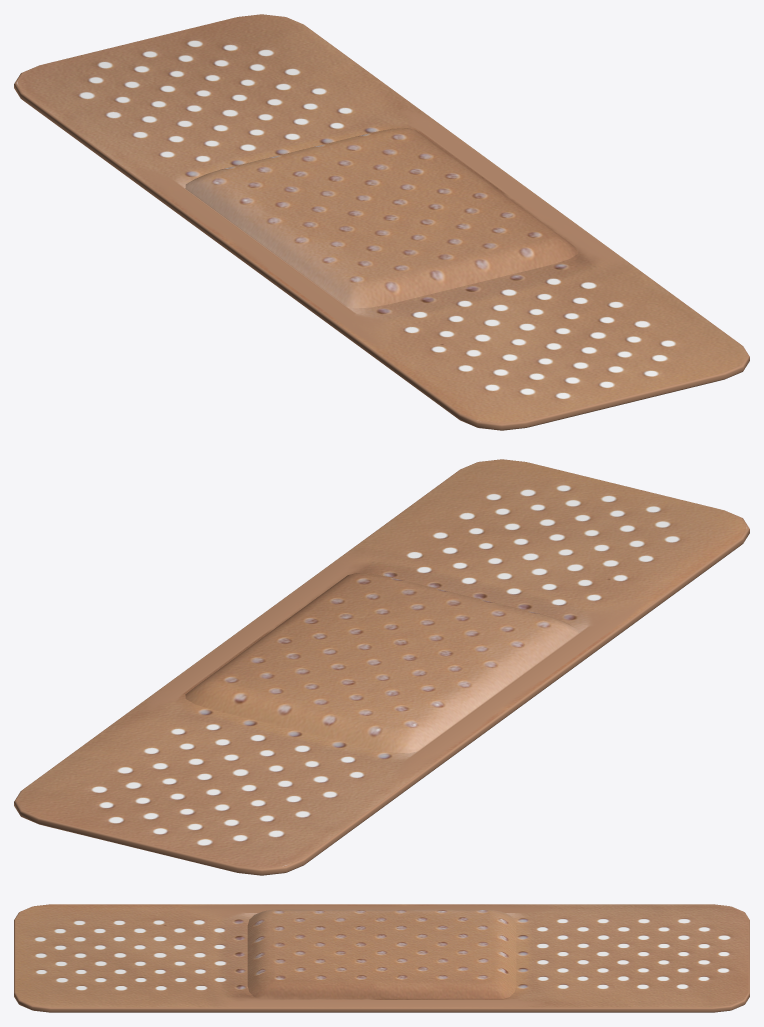
The model's file is Bandaid.fbx.
The picture shows the model from 3 angles, top to bottom: view 1: azimuth 30°, elevation 25°; view 2: azimuth 150°, elevation 25°; view 3: azimuth 270°, elevation 25°; orthographic projection. The views are drawn at different scales.
Parts seen in each view (by area): view 1: bandaid; view 2: bandaid; view 3: bandaid.
Part boxes in pixels (bbox=[...]): bandaid: bbox=[14, 14, 749, 430]; bandaid: bbox=[14, 459, 749, 875]; bandaid: bbox=[14, 904, 749, 1012].
Size of the model in its own units: 1.91 by 0.1788 by 5.69.
Materials: 1 (1 with a texture image).
